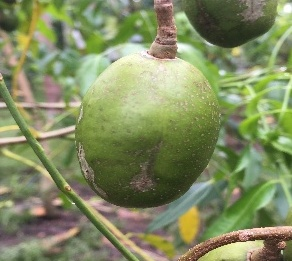Coc: (72, 48, 224, 211)
